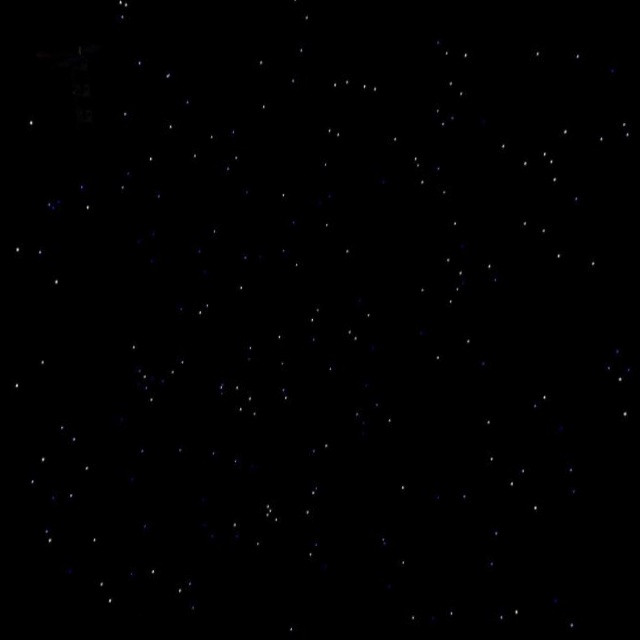medium_debris: (26, 18, 143, 141)
